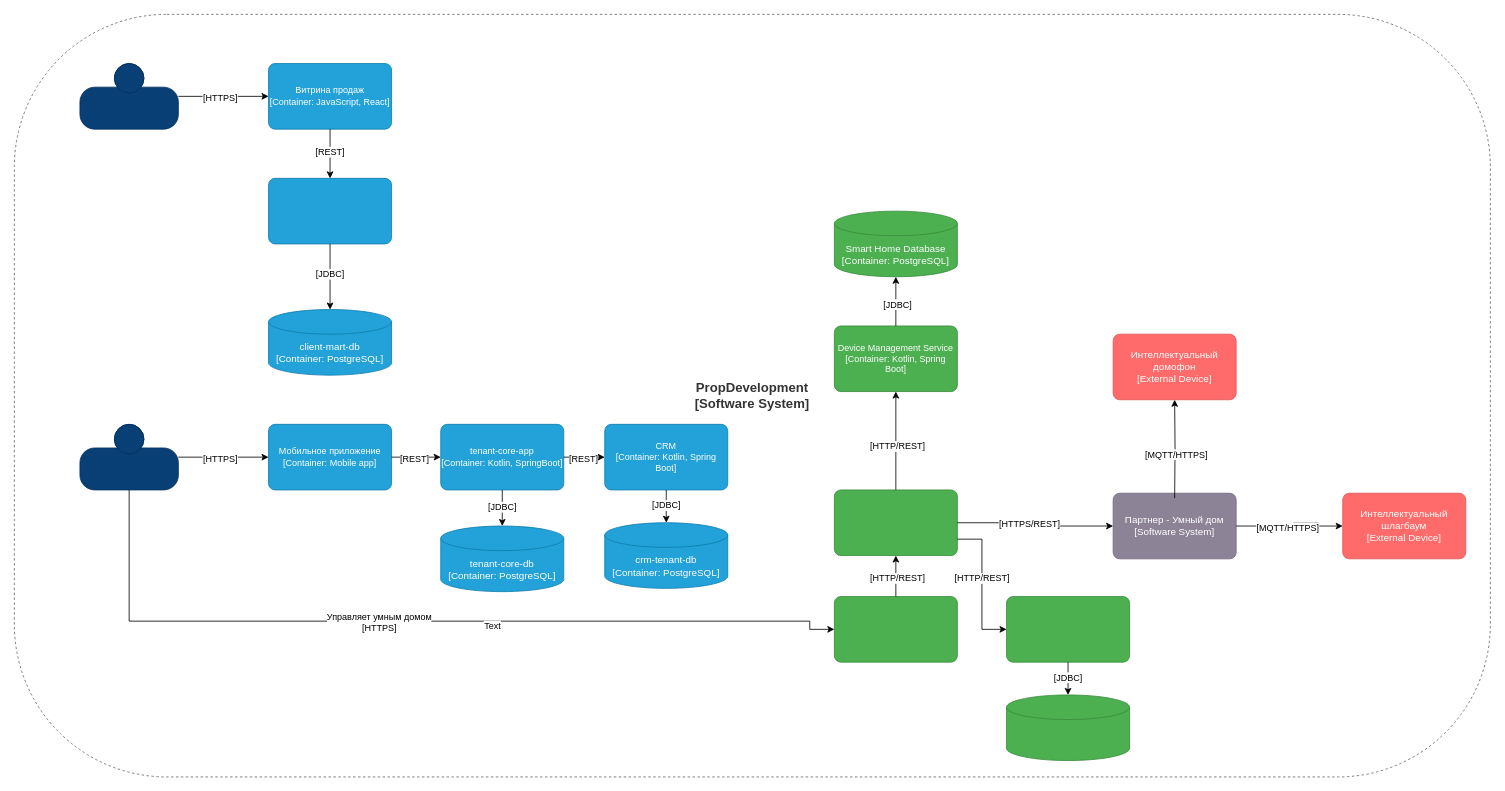
Some shapes in this 1505 by 791 pixel diagram are drawn without their labels. Each missing label, with the centre of its shape:
"Access Control Service [Container: Kotlin, Spring Boot]" belongs at (1068,629).
"Biometric Database [Container: PostgreSQL]" belongs at (1068,727).
"client-mart-app [Container: Kotlin, SpringBoot]" belongs at (330,211).
"Smart Home API Gateway [Container: Kong, Nginx]" belongs at (895,629).
"Smart Home Service [Container: Kotlin, Spring Boot]" belongs at (895,522).
"Клиент [Person]" belongs at (128,96).
"Собственник [Person]" belongs at (128,457).
